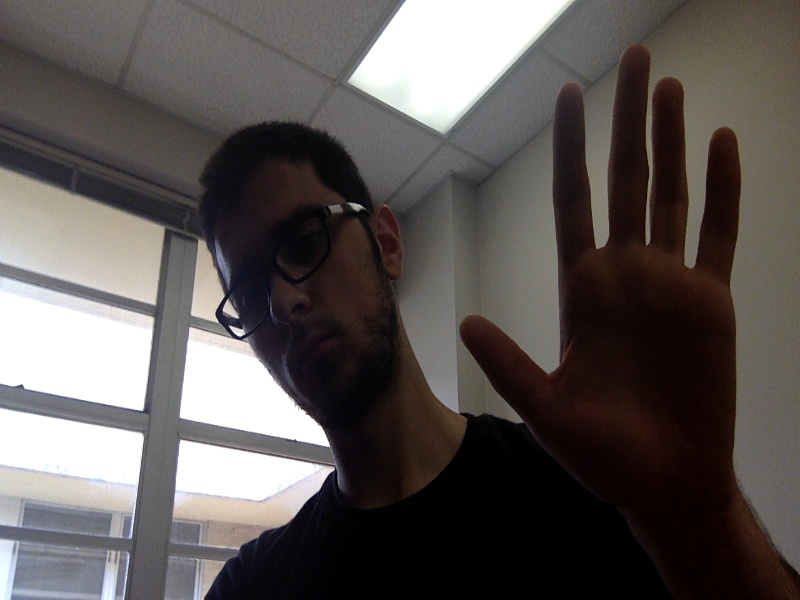5-hand: (462, 40, 737, 496)
